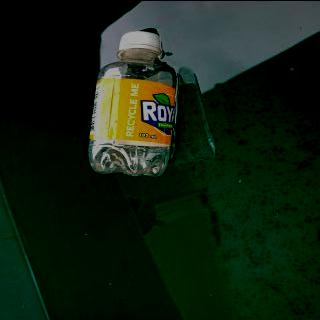bottle: (84, 27, 182, 181)
